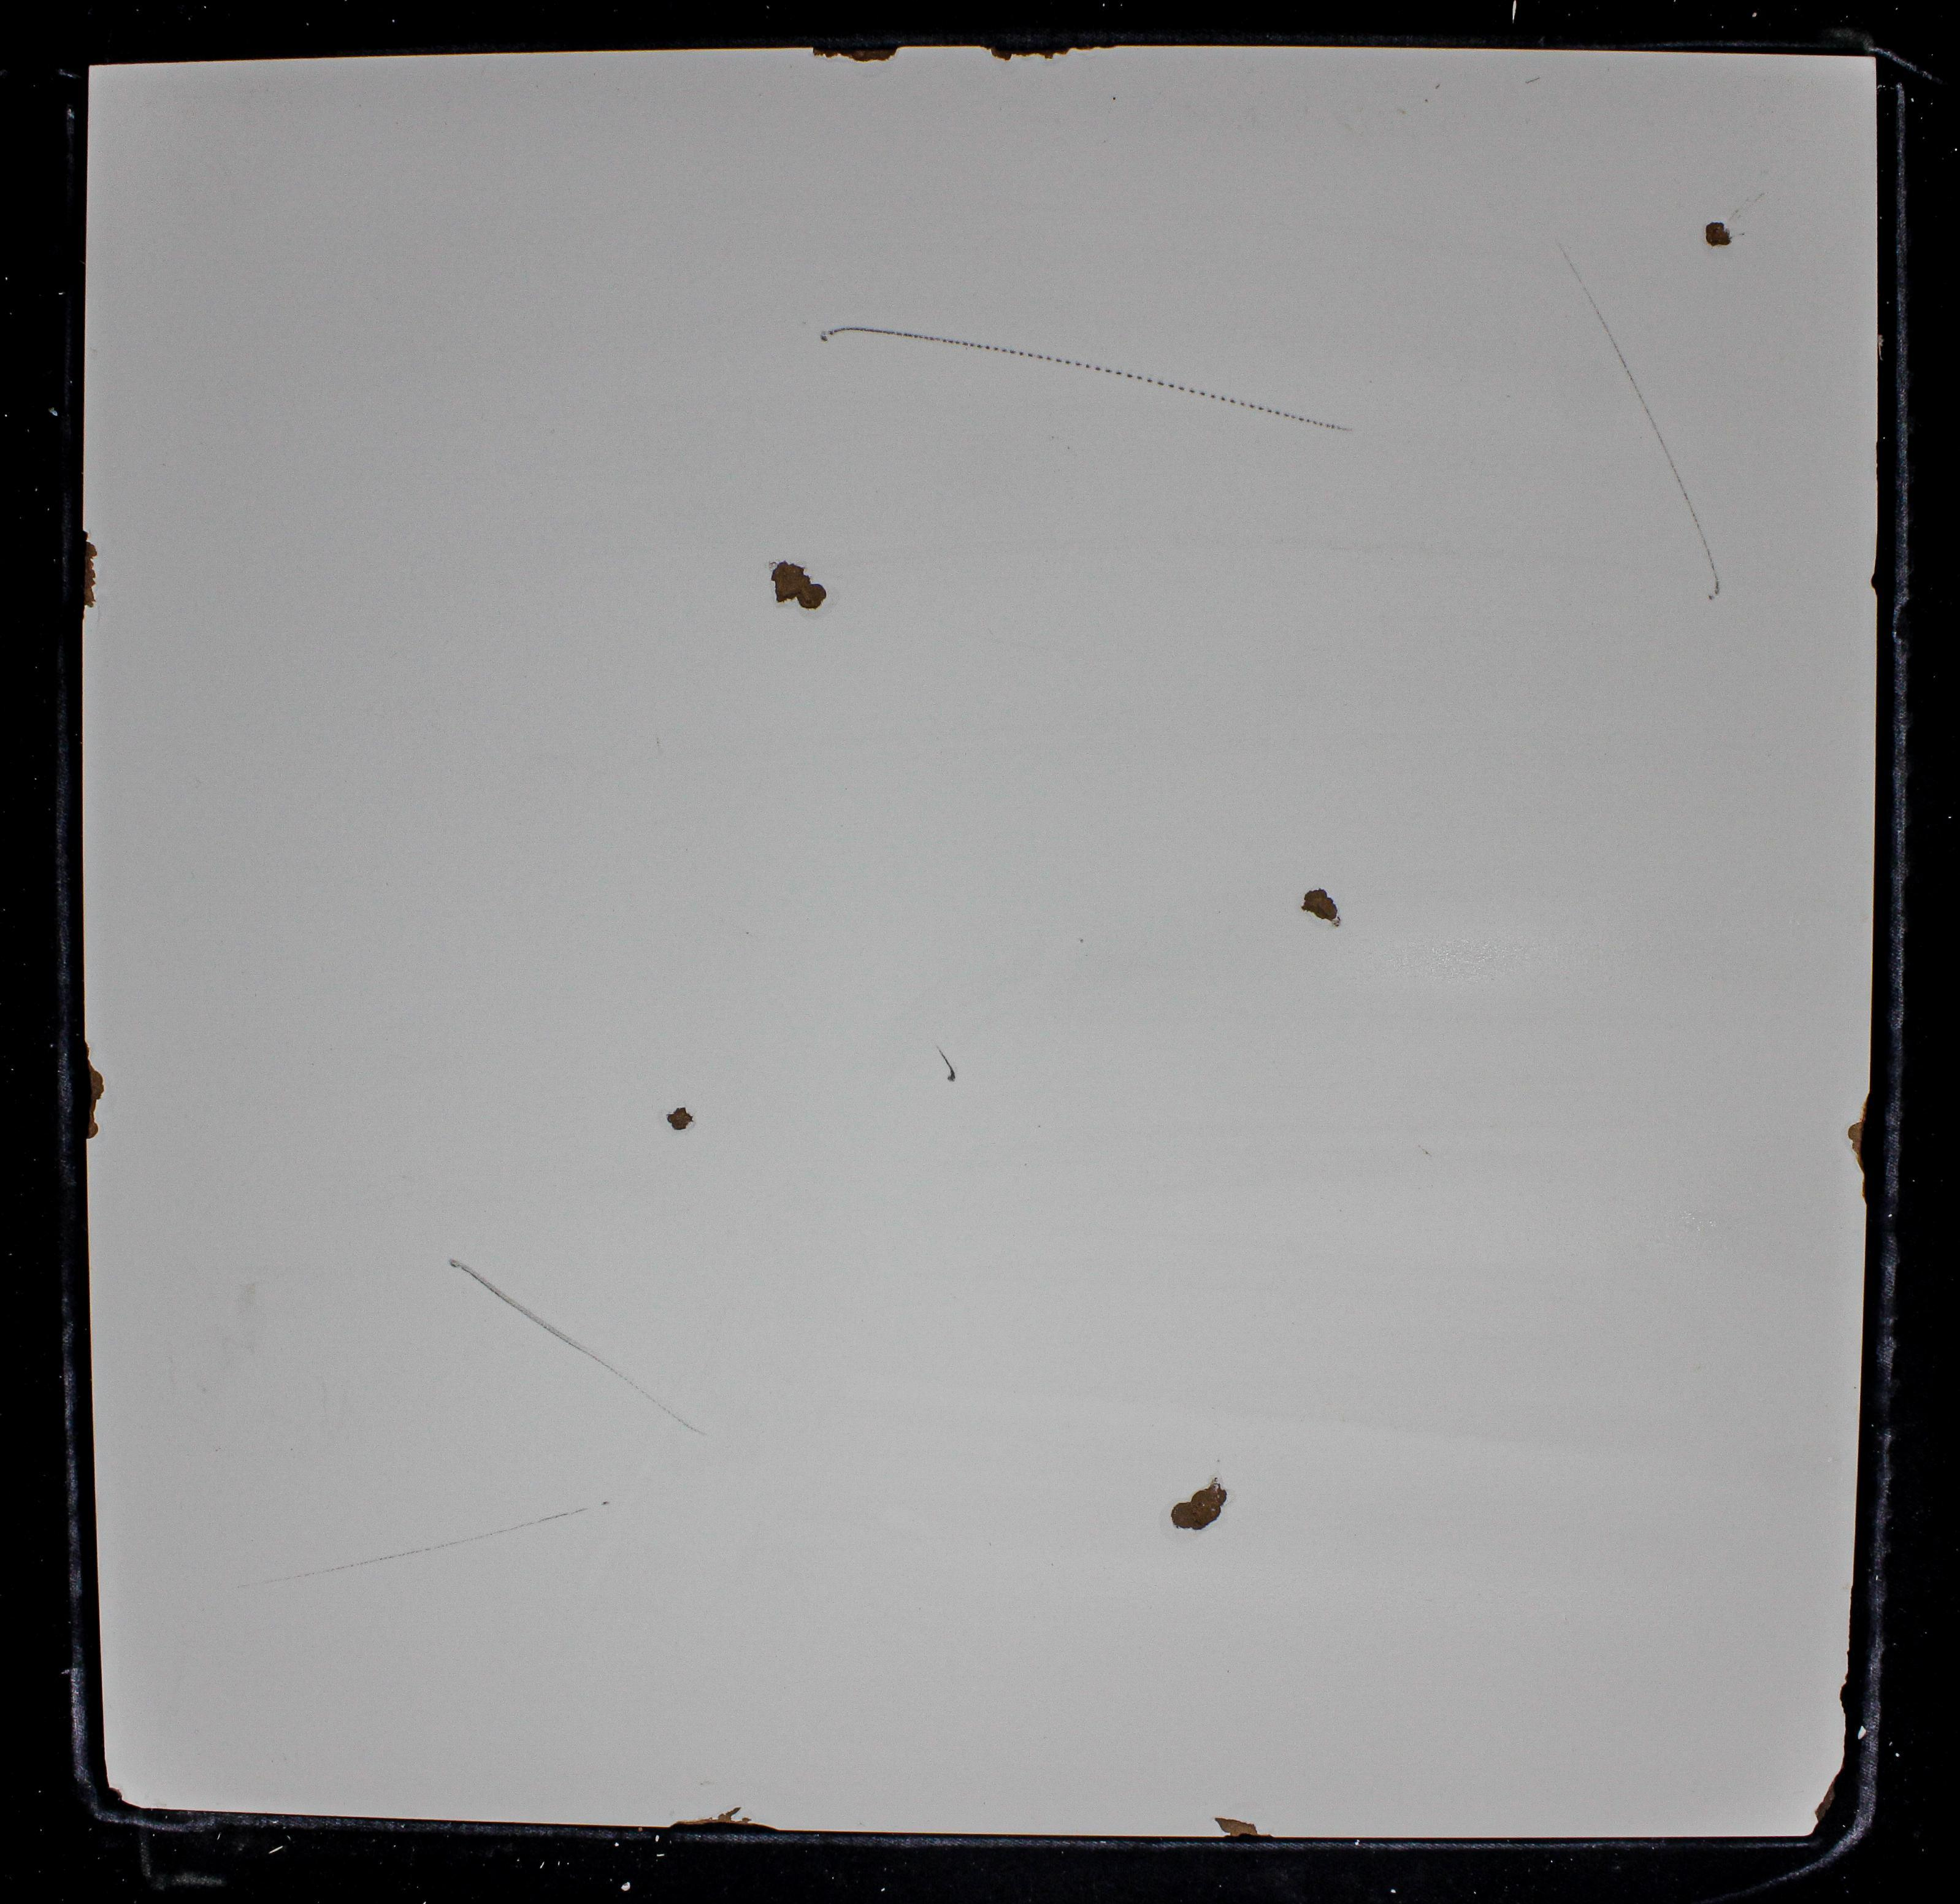edge-chipping: (665, 1806, 777, 1834), (1846, 1094, 1871, 1207), (1809, 1768, 1844, 1838), (980, 44, 1073, 63), (812, 44, 901, 63), (80, 528, 100, 616), (86, 1059, 105, 1139), (1214, 1815, 1265, 1839), (105, 1787, 143, 1808)
hole: (1171, 1477, 1230, 1533), (770, 563, 829, 612), (1300, 889, 1340, 926), (663, 1101, 696, 1137), (1704, 220, 1731, 249)
line: (817, 324, 1347, 429), (1566, 257, 1722, 600), (444, 1255, 702, 1435), (268, 1508, 588, 1585), (933, 1046, 959, 1085)
